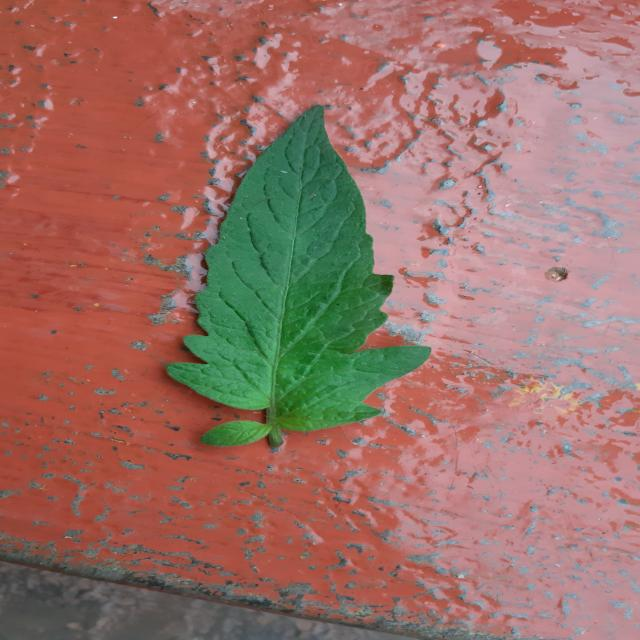tomato: (167, 106, 431, 448)
